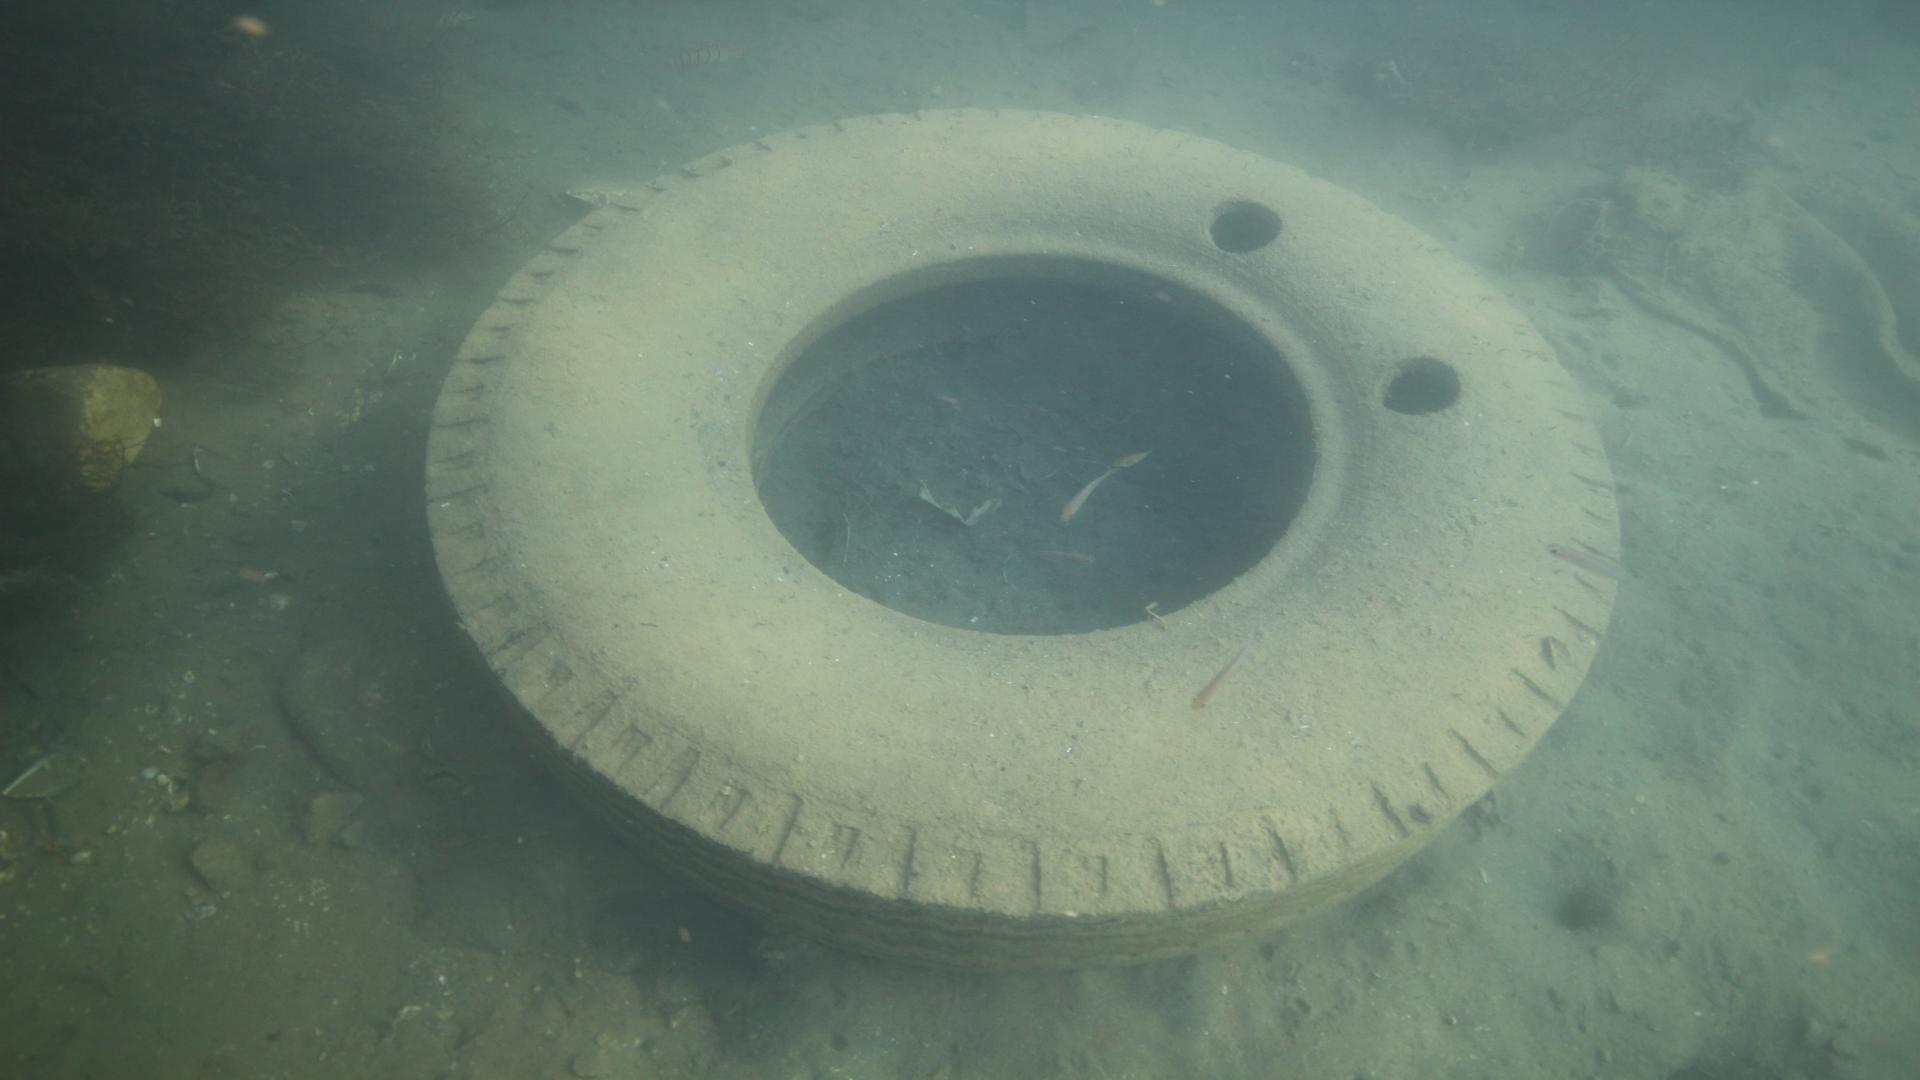tire: (419, 100, 1625, 989)
